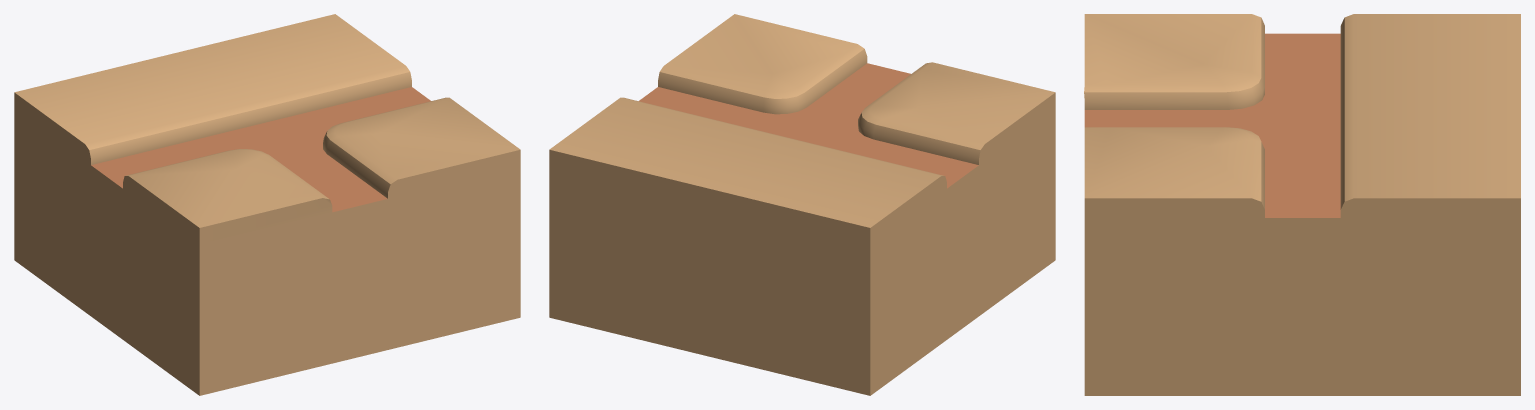
The model's file is square_sand_roadD.glb.
3 renders of one model, left to right at view 1: azimuth 30°, elevation 25°; view 2: azimuth 150°, elevation 25°; view 3: azimuth 270°, elevation 25°, orthographic. The views are drawn at different scales.
Parts seen in each view (by area): view 1: square_sand_roadD; view 2: square_sand_roadD; view 3: square_sand_roadD.
Part boxes in pixels (bbox=[...]): square_sand_roadD: bbox=[14, 14, 520, 395]; square_sand_roadD: bbox=[549, 14, 1055, 395]; square_sand_roadD: bbox=[1084, 14, 1520, 395].
Bounding box in the file's own units: 3.82 × 1.91 × 3.82.
